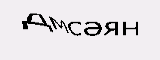Д: (20, 12, 52, 33)
М: (48, 15, 69, 34)
Н: (120, 21, 140, 37)
С: (67, 20, 83, 37)
Я: (102, 20, 120, 38)
Ә: (83, 20, 102, 40)
